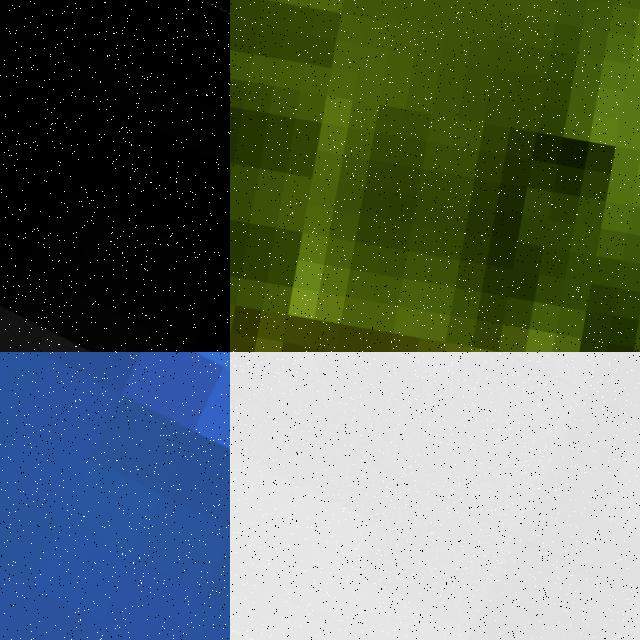drone: (230, 352, 640, 640), (0, 0, 230, 352), (0, 352, 230, 640)
